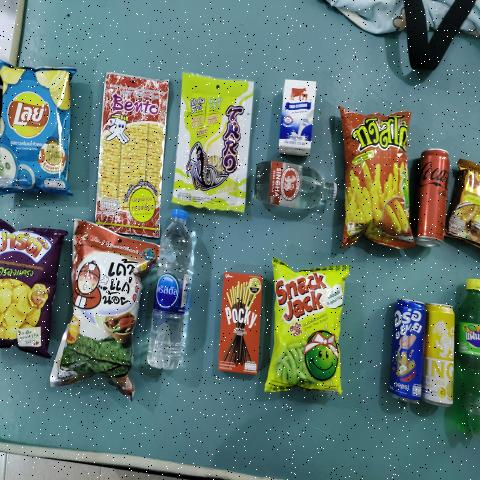bento_red: (103, 73, 164, 231)
coke_red: (420, 147, 453, 246)
crystal: (144, 205, 201, 375)
lay_blue: (0, 68, 68, 190)
pepsi_blue: (395, 300, 422, 410)
pokki: (223, 268, 258, 374)
singha_soda: (253, 152, 342, 214)
singha_yellow: (428, 305, 455, 411)
snack_jack: (278, 262, 348, 404)
taokaenoi: (73, 226, 140, 388)
taro_yellow: (179, 79, 248, 198)
thai_denmark: (282, 73, 318, 156)
twisco: (348, 115, 410, 250)
